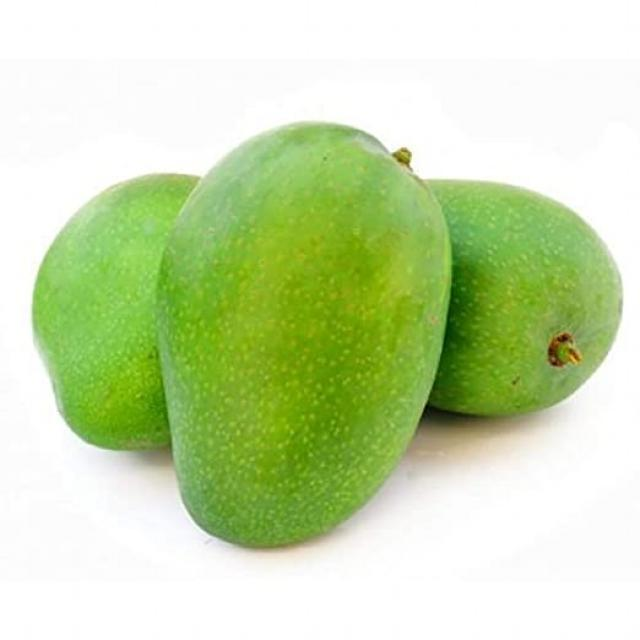raw-image: (154, 107, 454, 562), (20, 131, 212, 497), (418, 166, 630, 444)
